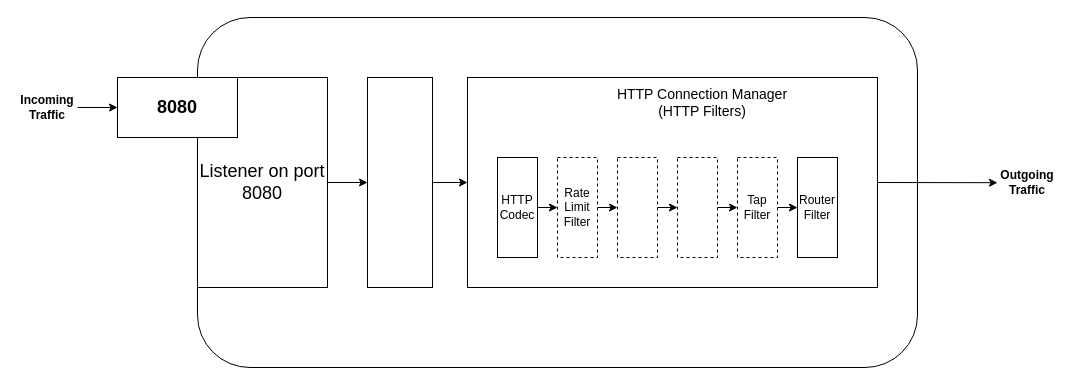
Image size: 1074x385. Some labels were removed from this diagram. The centre of each missing label's shape, as x and y in pixels:
"Fault Injection Filter" belongs at (697,207).
"Lua Filter" belongs at (637,207).
"TCP Filters" belongs at (399,182).
